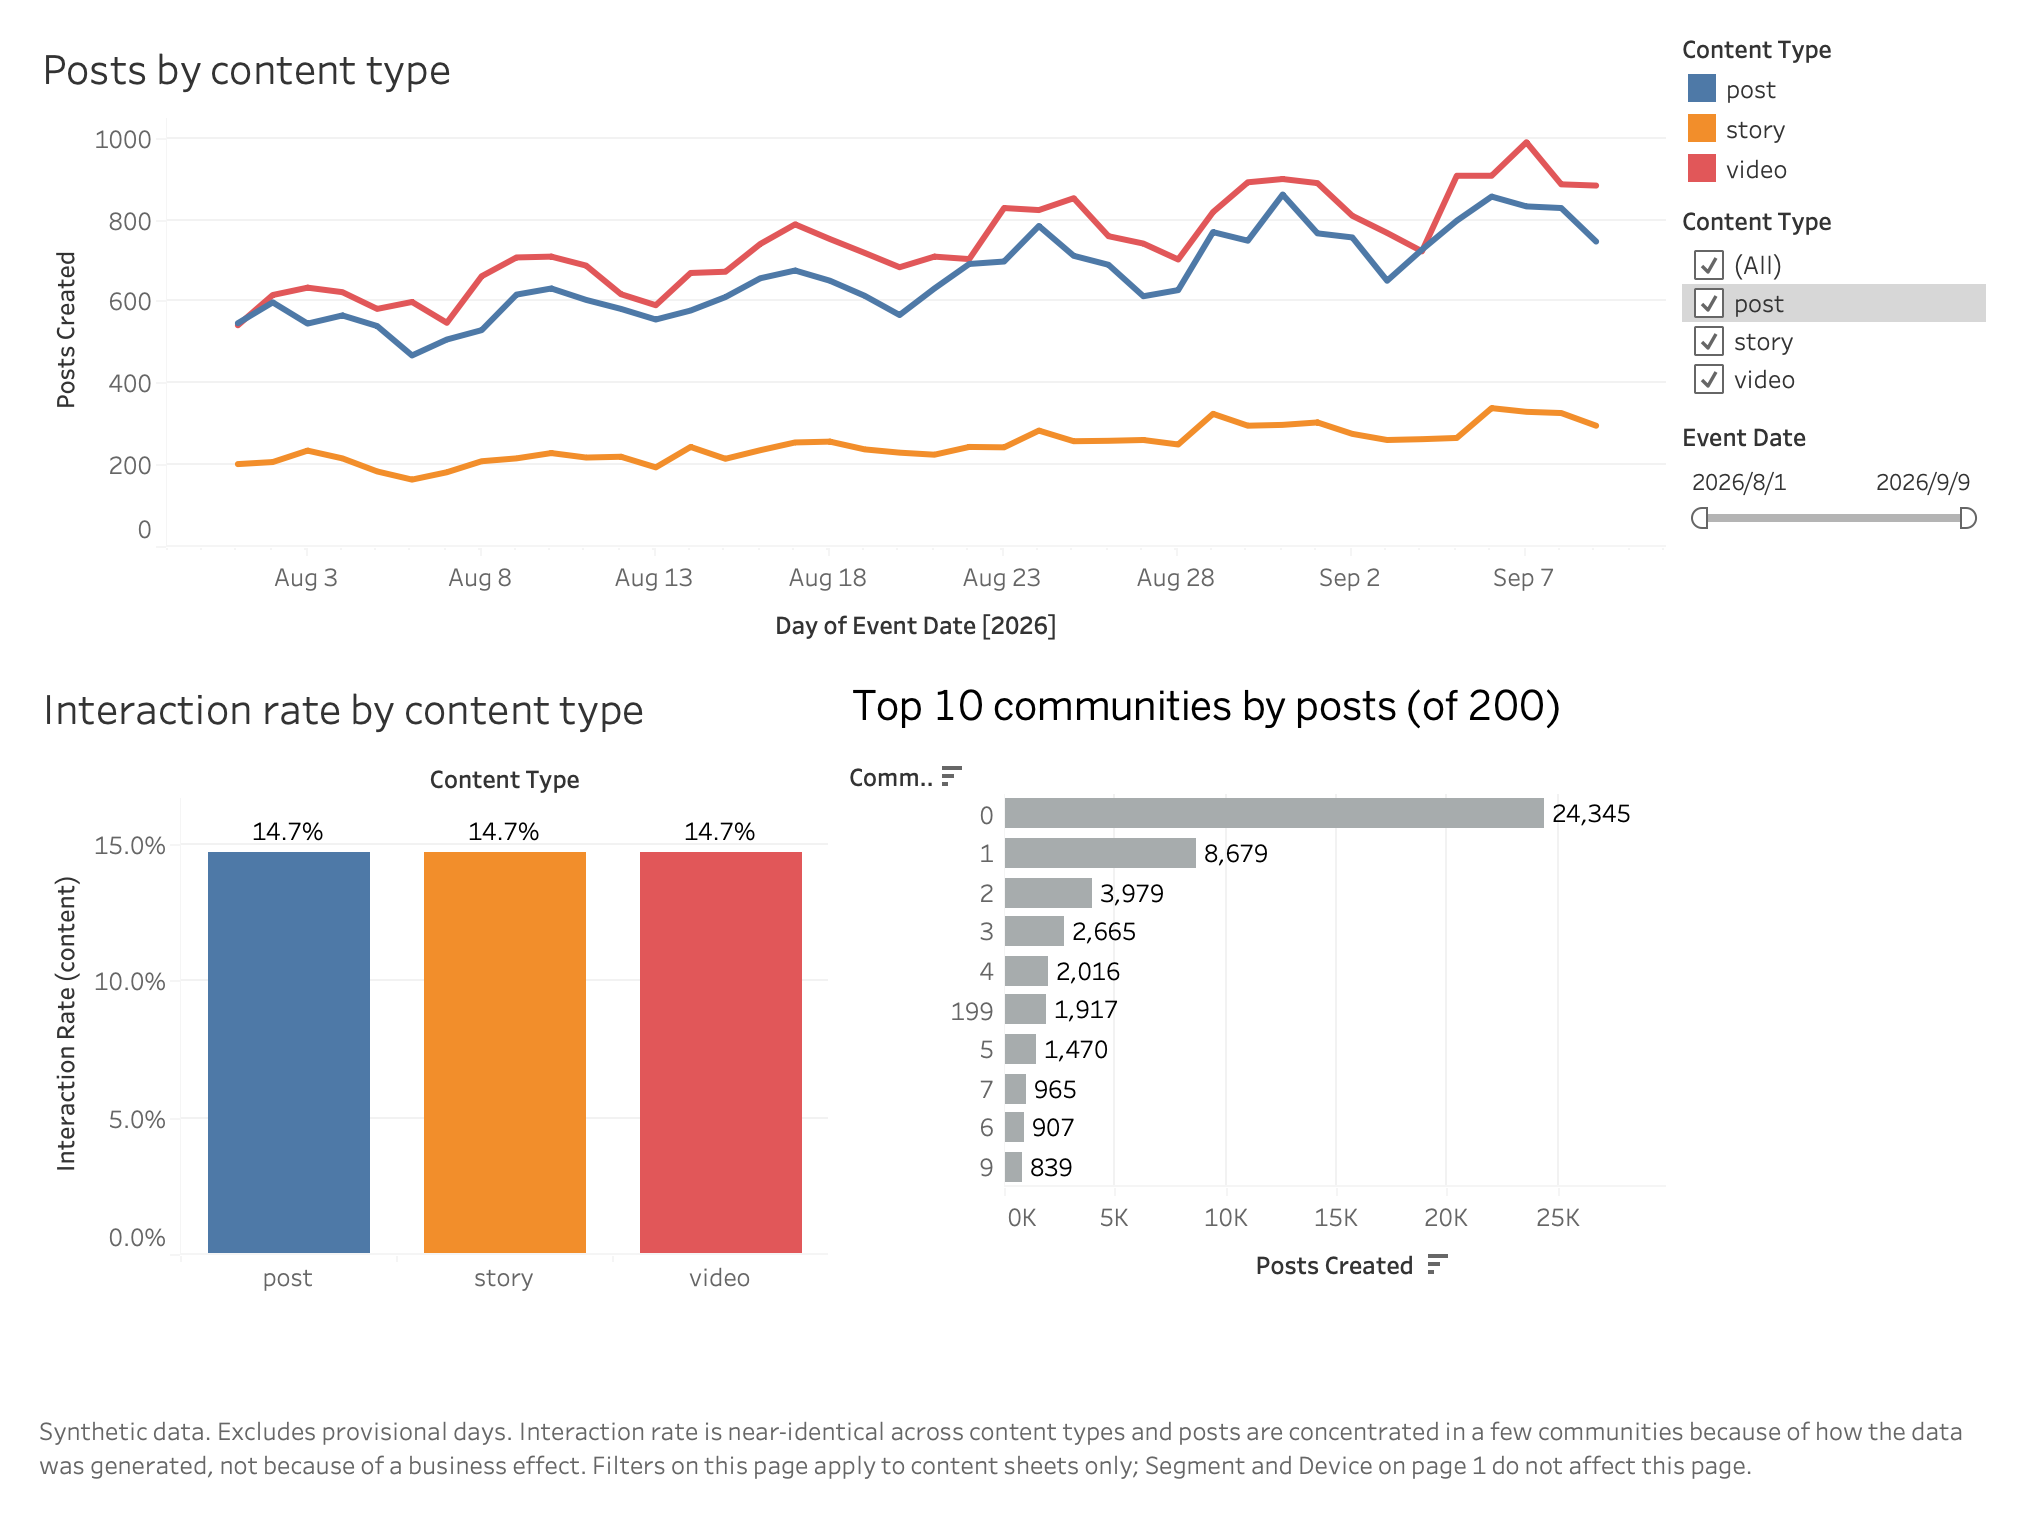

The dashboard page shown, as its layout file describes it:
{"tool":"tableau","page":{"name":"2 Content Performance","canvas":[1000,800],"ordinal":1},"visuals":[{"type":"worksheet","title":"Posts by content type","mark":"Automatic","rows":["posts_created"],"cols":["event_date"],"box":[8,8,824,320]},{"type":"legend","title":"Posts by content type","param":"[federated.0kp9njx1ygis9115eaxsf1momvb1].[none:content_type:nk]","box":[832,8,160,86]},{"type":"filter","title":"Top communities by posts","param":"[federated.0kp9njx1ygis9115eaxsf1momvb1].[none:content_type:nk]","box":[832,94,160,108]},{"type":"filter","title":"Top communities by posts","param":"[federated.0kp9njx1ygis9115eaxsf1momvb1].[none:event_date:qk]","box":[832,202,160,69]},{"type":"worksheet","title":"Interaction rate by content type","mark":"Automatic","rows":["Calculation_3725406952943623"],"cols":["content_type"],"box":[8,328,405,320]},{"type":"worksheet","title":"Top communities by posts","mark":"Automatic","rows":["community_id"],"cols":["posts_created"],"box":[413,328,419,320]},{"type":"text","box":[8,648,984,144]}]}

Visuals, with their boxes on the page's 1000x800 design canvas (x1, y1, x2, y2). These are canvas units, not pixel positions in the 2025x1518 screenshot, which may show the page scaled, cropped or inside an application window:
"Posts by content type" worksheet: (8,8,832,328)
"Posts by content type" legend: (832,8,992,94)
"Top communities by posts" filter: (832,94,992,202)
"Top communities by posts" filter: (832,202,992,271)
"Interaction rate by content type" worksheet: (8,328,413,648)
"Top communities by posts" worksheet: (413,328,832,648)
text: (8,648,992,792)
